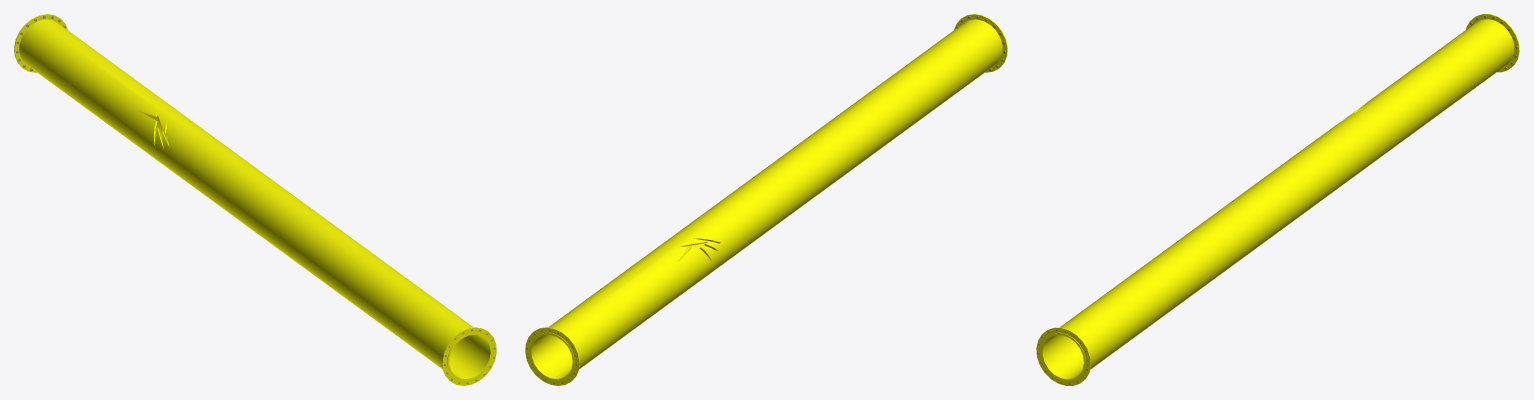
Rendered from fractured.dae.
3 renders of one model, left to right at view 1: azimuth 30°, elevation 25°; view 2: azimuth 150°, elevation 25°; view 3: azimuth 330°, elevation 25°, orthographic.
Visible parts, largest first — view 1: fractured; view 2: fractured; view 3: fractured.
Boxes of the visible parts, box(x1,y1,x2,y2) form: fractured: box(14, 14, 496, 385); fractured: box(525, 14, 1007, 385); fractured: box(1036, 14, 1519, 385).
Size of the model in its own units: 0.7297 by 10 by 0.7297.
Materials: 2 (1 with a texture image).
